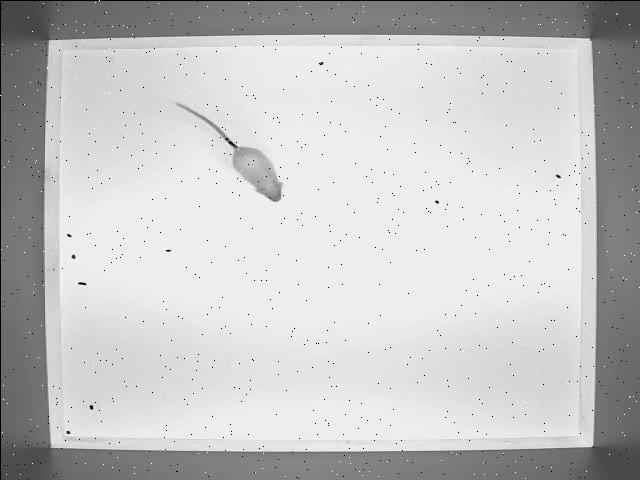Tikus: (170, 95, 293, 204)
